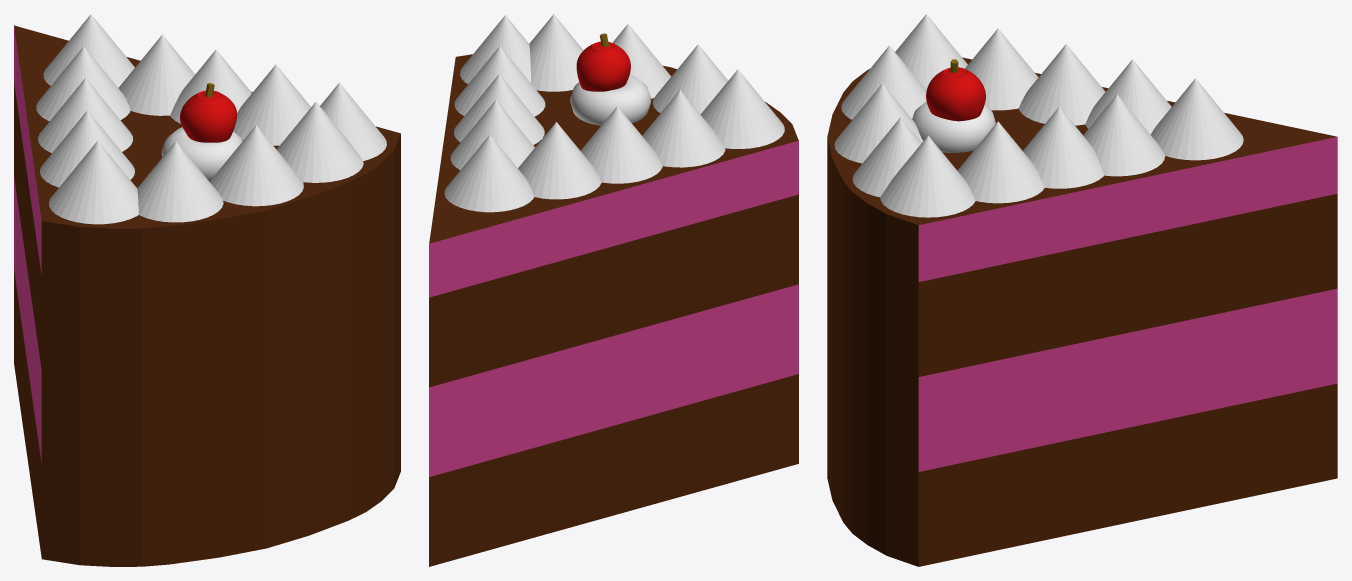
File: cake.fbx
The picture shows the model from 3 angles, left to right: view 1: azimuth 30°, elevation 25°; view 2: azimuth 150°, elevation 25°; view 3: azimuth 270°, elevation 25°; orthographic projection. The views are drawn at different scales.
Visible parts, largest first — view 1: Cylinder; view 2: Cylinder; view 3: Cylinder.
Boxes of the visible parts, x1,y1,x2,y2 form: Cylinder: (14, 14, 400, 566); Cylinder: (429, 14, 798, 566); Cylinder: (827, 14, 1337, 566).
Size of the model in its own units: 200 by 222 by 244.
